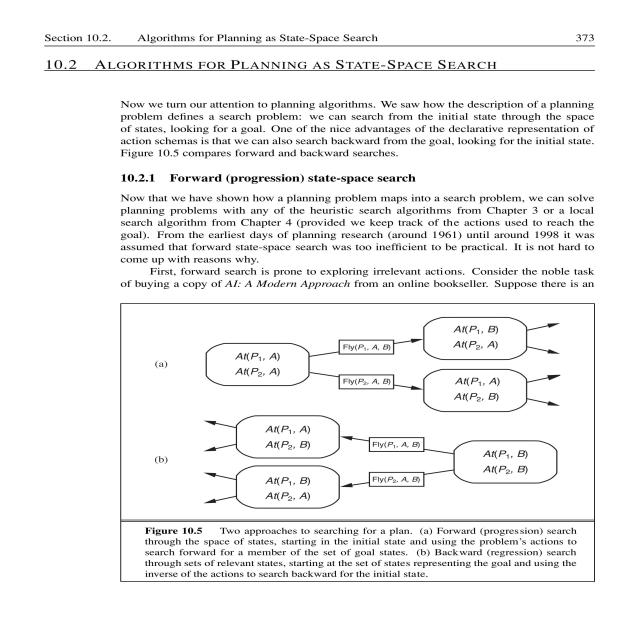diagram: (99, 294, 609, 600)
